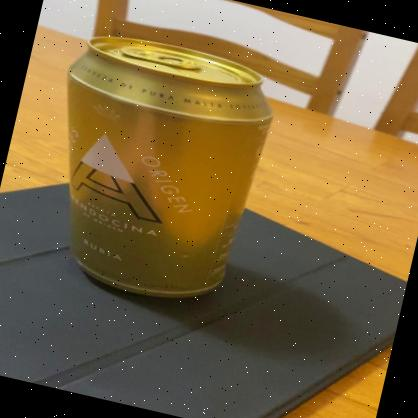can: (23, 23, 284, 312)
